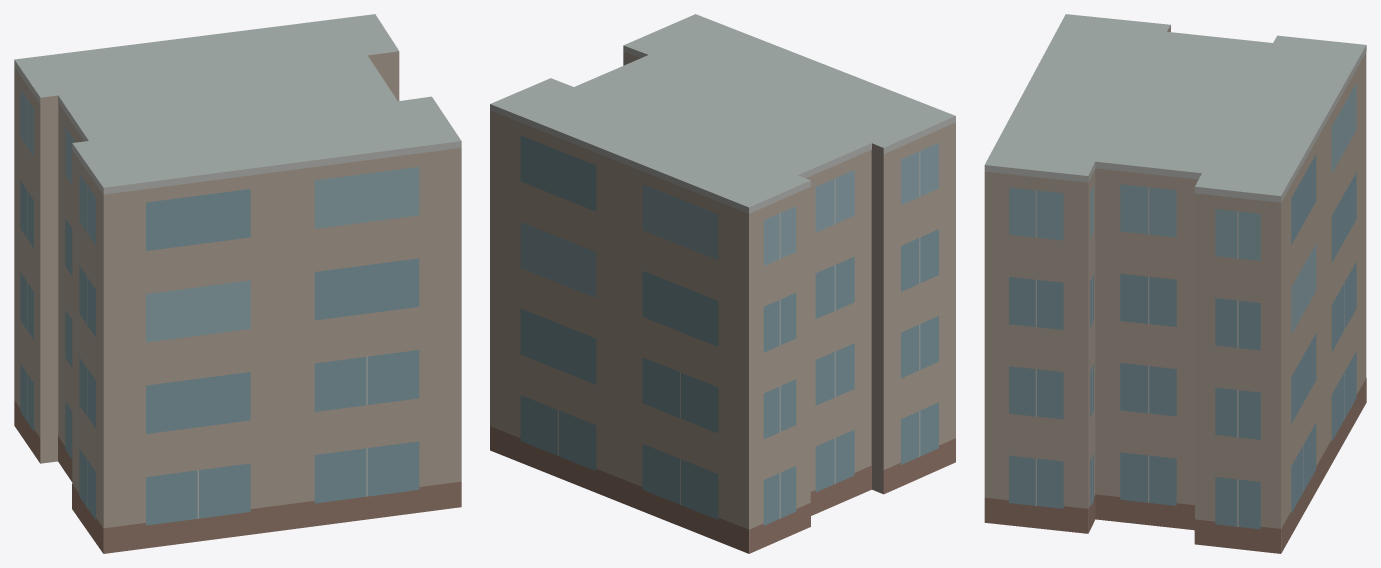
The model's file is survey-upis-32932549.glb.
3 renders of one model, left to right at view 1: azimuth 30°, elevation 25°; view 2: azimuth 150°, elevation 25°; view 3: azimuth 270°, elevation 25°, orthographic. The views are drawn at different scales.
Visible parts, largest first — view 1: survey-upis-32932549.tmp; view 2: survey-upis-32932549.tmp; view 3: survey-upis-32932549.tmp.
Boxes of the visible parts, box(x1,y1,x2,y2) form: survey-upis-32932549.tmp: box(14, 14, 461, 553); survey-upis-32932549.tmp: box(490, 14, 955, 553); survey-upis-32932549.tmp: box(984, 14, 1366, 553).
Size of the model in its own units: 14.43 by 13.2 by 12.78.
